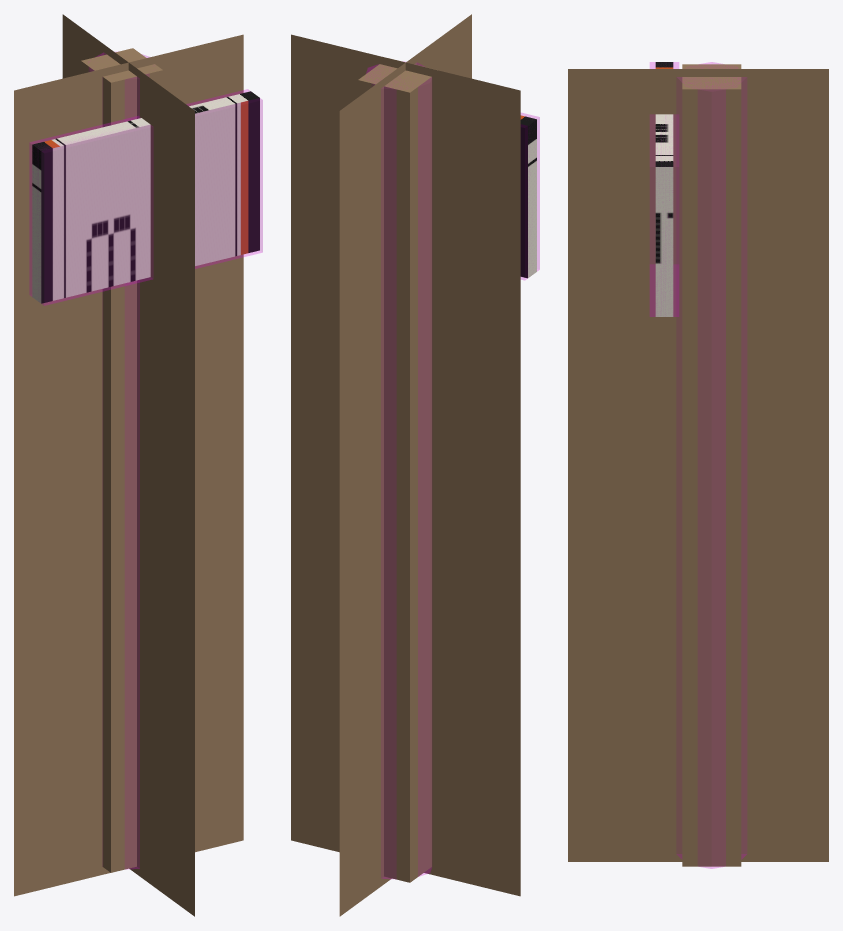
The model's file is milemarker_008.dae.
The picture shows the model from 3 angles, left to right: view 1: azimuth 30°, elevation 25°; view 2: azimuth 150°, elevation 25°; view 3: azimuth 270°, elevation 25°; orthographic projection.
Parts seen in each view (by area): view 1: milemarker_008_a50, milemarker_008_a800, Colmesh_sign-1, milemarker_008_a200, Colmesh_post-1; view 2: milemarker_008_a50, milemarker_008_a800, Colmesh_post-1, milemarker_008_a200, Colmesh_sign-1; view 3: milemarker_008_a50, milemarker_008_a800, Colmesh_post-1, Colmesh_sign-1.
Part boxes in pixels (x1,y1,x2,y2): milemarker_008_a50: [14, 14, 243, 916]; milemarker_008_a800: [32, 48, 259, 872]; Colmesh_sign-1: [29, 89, 262, 305]; milemarker_008_a200: [102, 56, 159, 866]; Colmesh_post-1: [89, 53, 148, 869]; milemarker_008_a50: [291, 14, 520, 916]; milemarker_008_a800: [358, 58, 536, 882]; Colmesh_post-1: [366, 61, 431, 878]; milemarker_008_a200: [379, 66, 431, 879]; Colmesh_sign-1: [521, 113, 539, 280]; milemarker_008_a50: [568, 69, 828, 861]; milemarker_008_a800: [655, 62, 741, 866]; Colmesh_post-1: [677, 62, 746, 868]; Colmesh_sign-1: [650, 62, 678, 316].
Size of the model in its own units: 0.441 by 0.441 by 1.48.
Materials: 3 (1 with a texture image).
